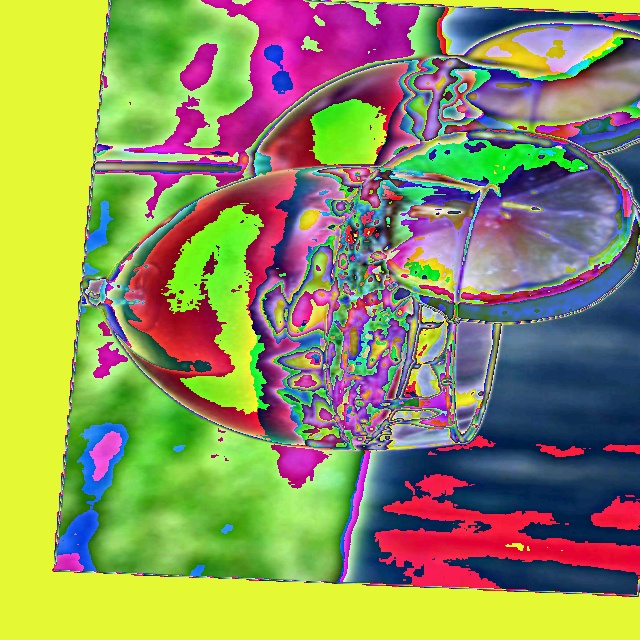background: (98, 19, 639, 453)
